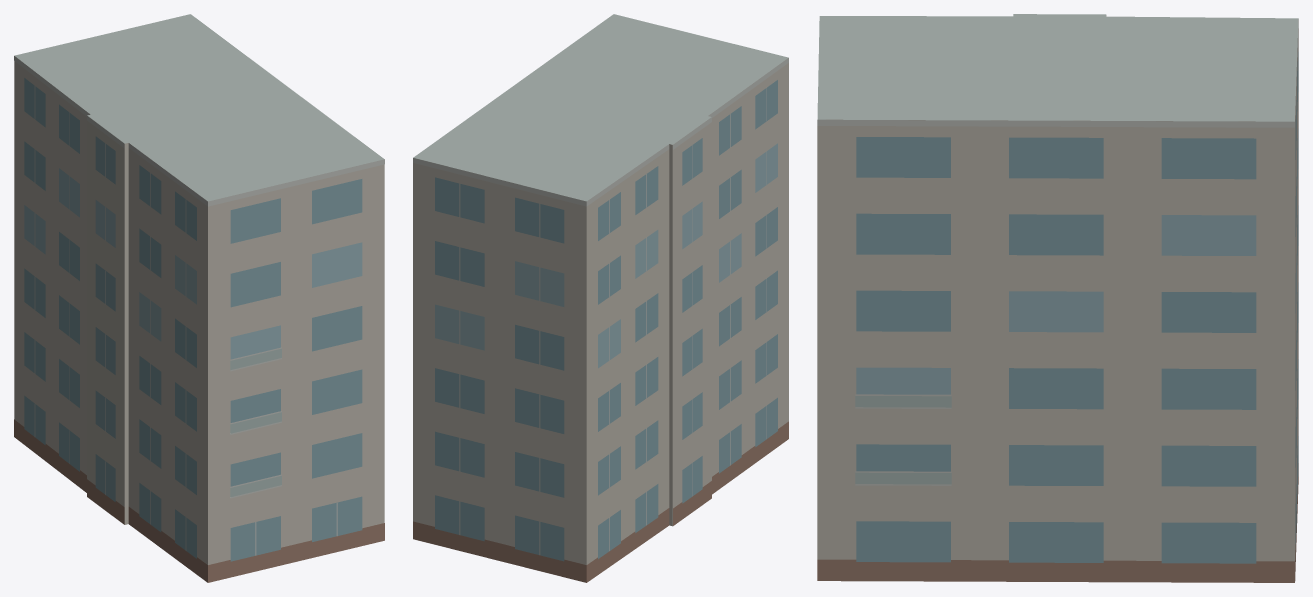
The model's file is survey-upis-33023081.glb.
3 views of the same model, side by side, from view 1: azimuth 30°, elevation 25°; view 2: azimuth 150°, elevation 25°; view 3: azimuth 270°, elevation 25° (orthographic). The views are drawn at different scales.
Visible parts, largest first — view 1: survey-upis-33023081.tmp; view 2: survey-upis-33023081.tmp; view 3: survey-upis-33023081.tmp.
Boxes of the visible parts, x1,y1,x2,y2 form: survey-upis-33023081.tmp: (14, 14, 384, 582); survey-upis-33023081.tmp: (413, 14, 788, 582); survey-upis-33023081.tmp: (817, 14, 1298, 582).
Size of the model in its own units: 9.17 by 18.3 by 17.31.
